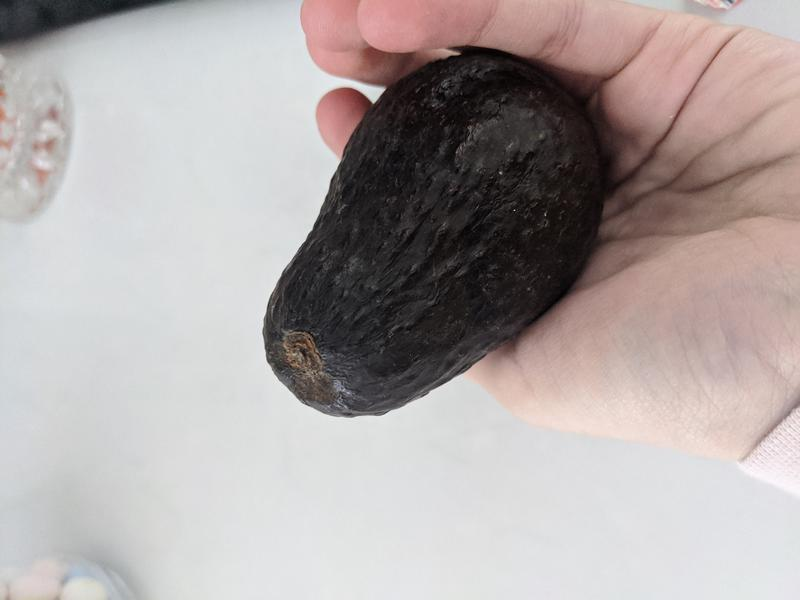avocado: (262, 52, 604, 417)
